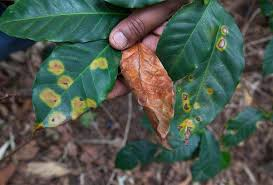roya: (30, 39, 114, 142)
